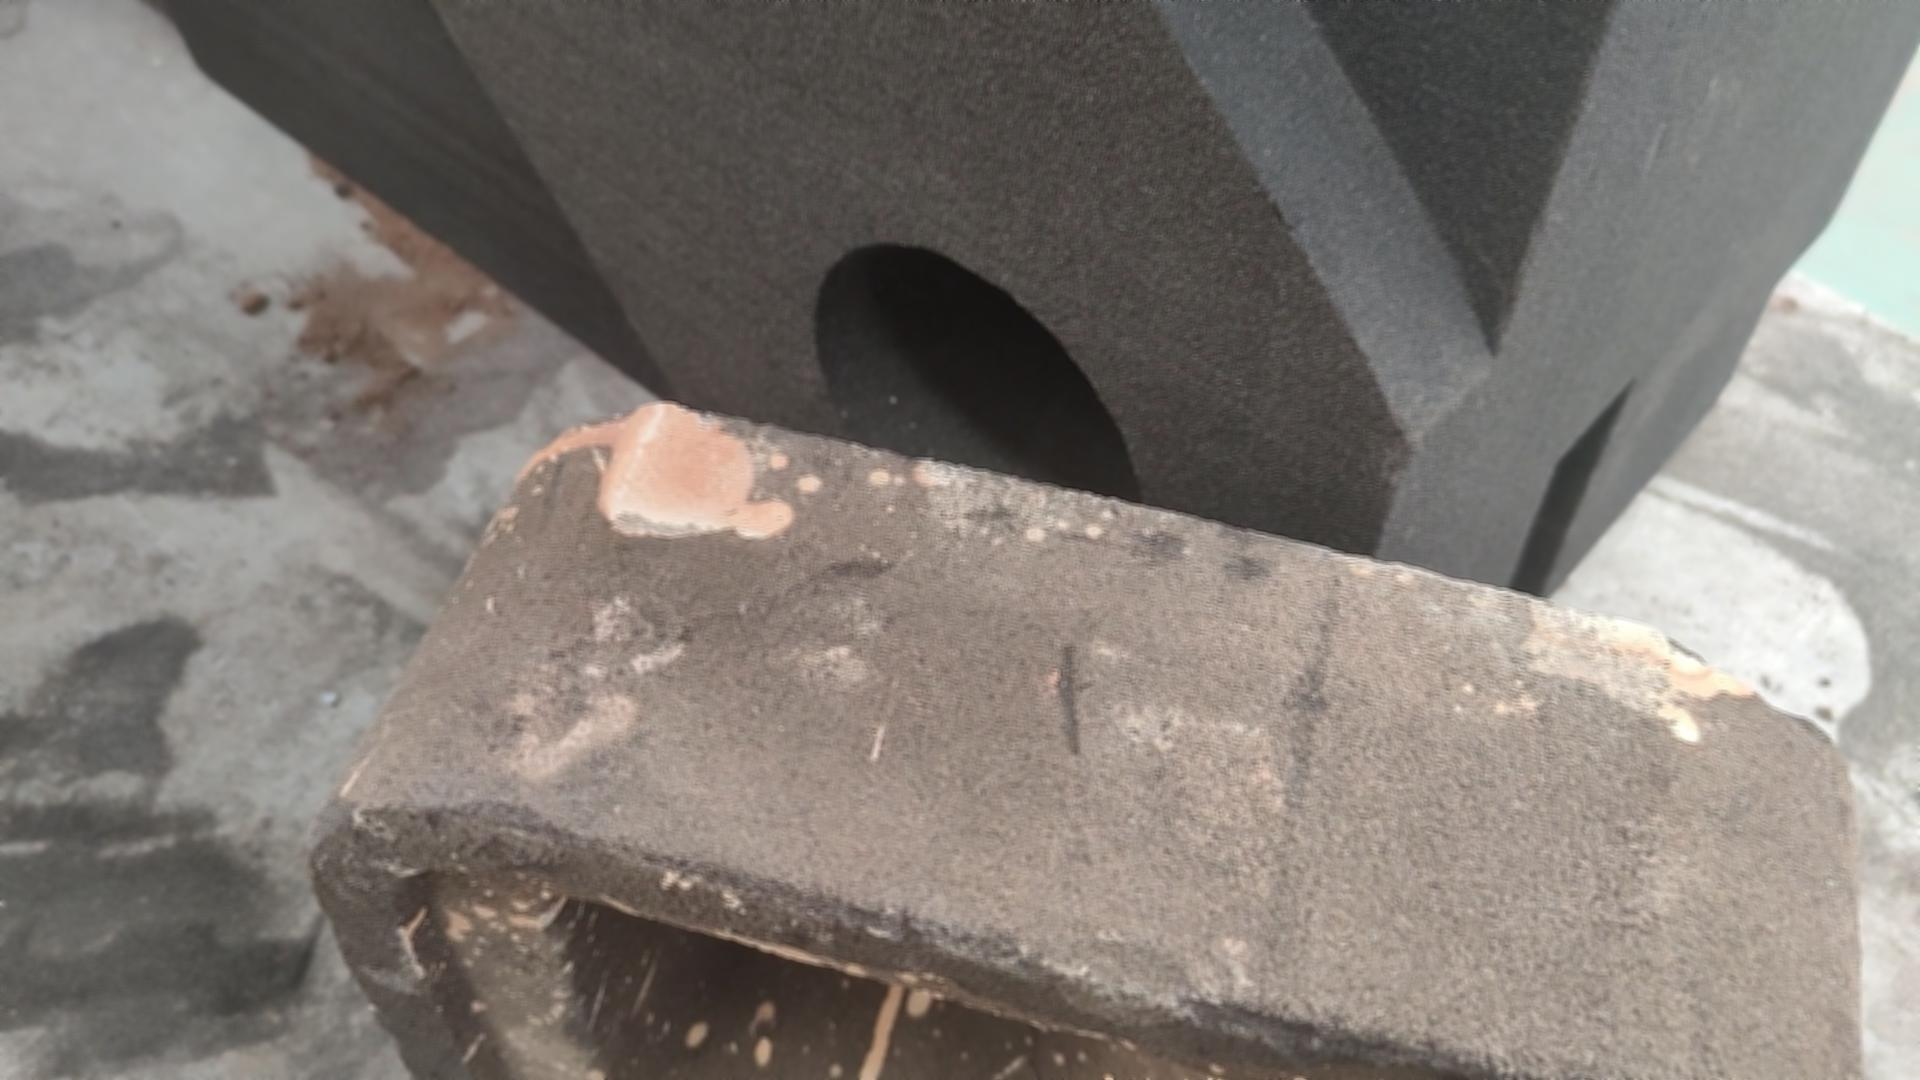pouring hole: (812, 240, 1145, 531)
